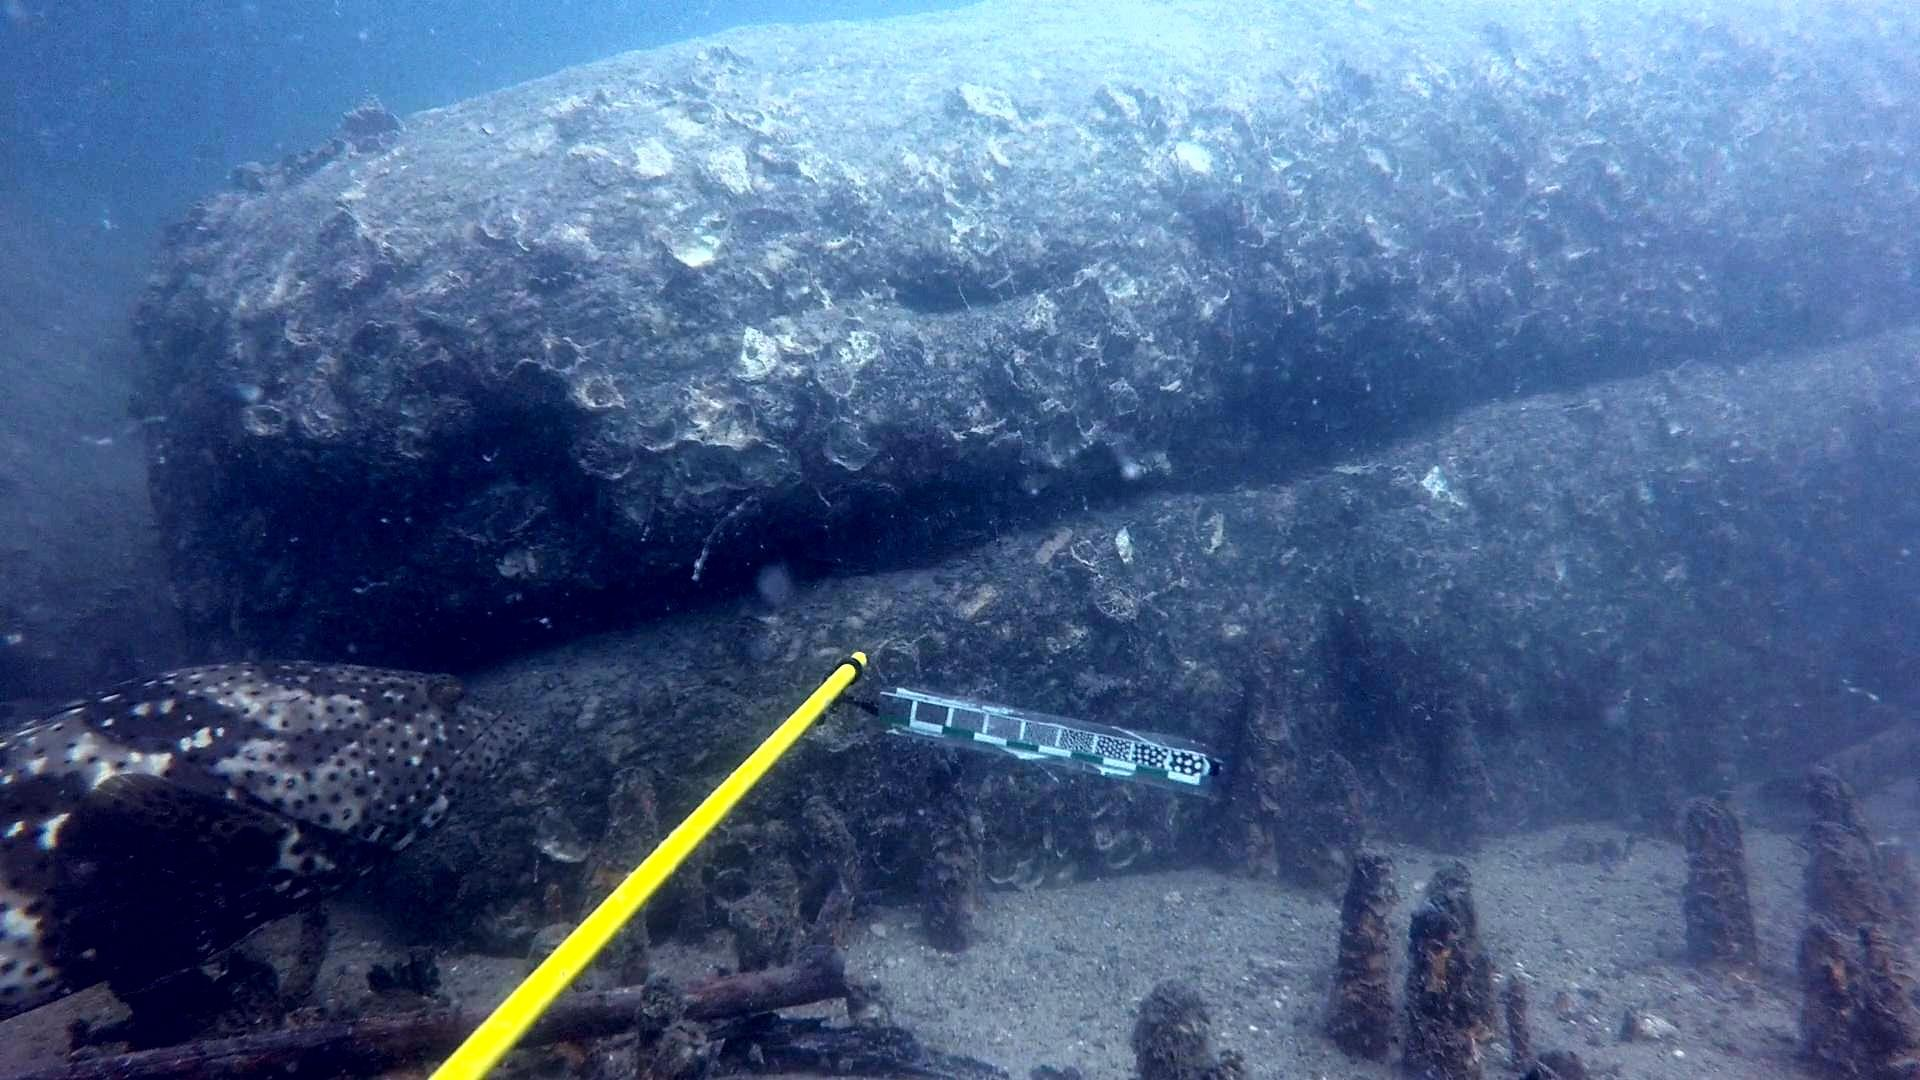epinephelus: (0, 650, 533, 1019)
